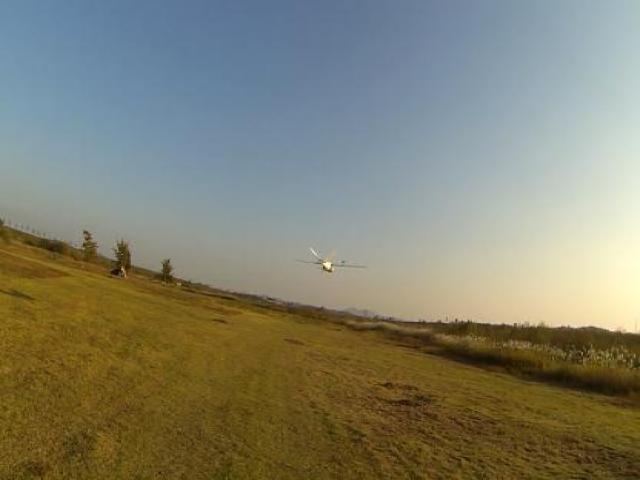uav: (287, 236, 371, 286)
